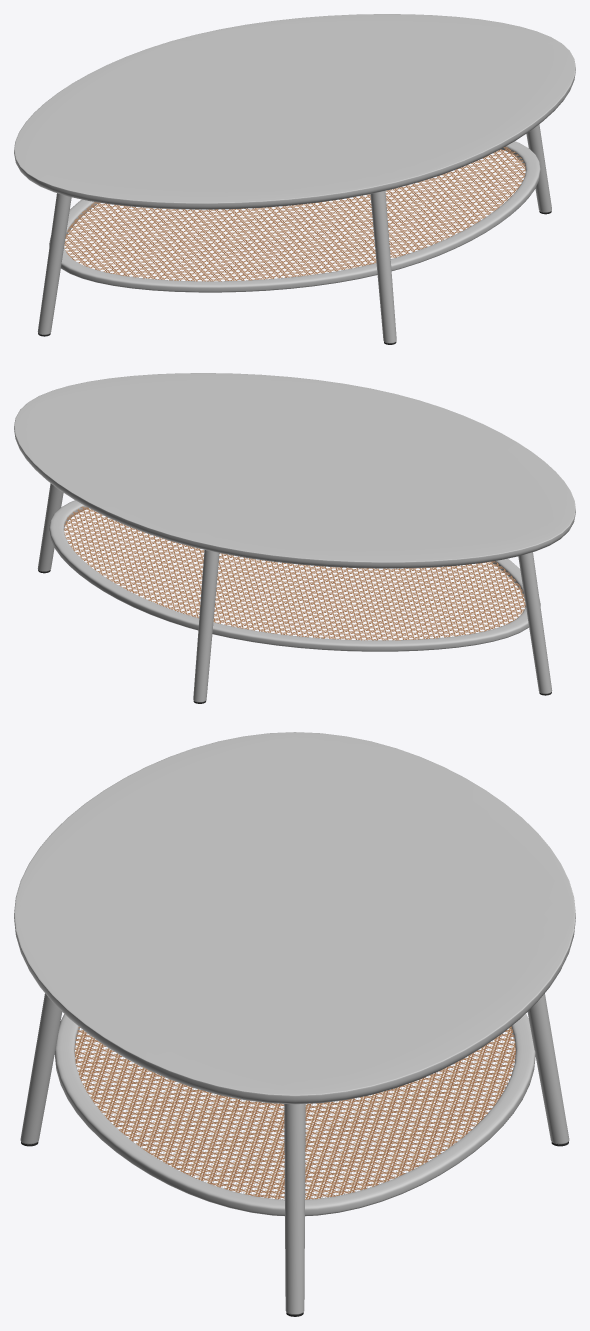
3 renders of one model, top to bottom at view 1: azimuth 30°, elevation 25°; view 2: azimuth 150°, elevation 25°; view 3: azimuth 270°, elevation 25°, orthographic. The views are drawn at different scales.
Visible parts, largest first — view 1: SM_Coffe_Table_01_LP; view 2: SM_Coffe_Table_01_LP; view 3: SM_Coffe_Table_01_LP.
Part boxes in pixels (box(x1,y1,x2,y2)): SM_Coffe_Table_01_LP: box(14, 14, 575, 344); SM_Coffe_Table_01_LP: box(14, 373, 575, 703); SM_Coffe_Table_01_LP: box(14, 732, 575, 1316).
Bounding box in the file's own units: 2.19 × 0.6427 × 1.43.
